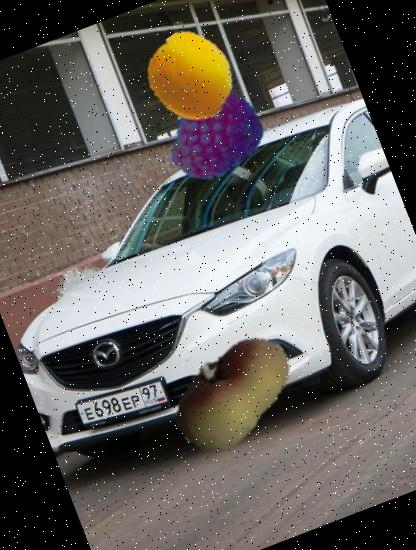Peach: (146, 306, 319, 479), (133, 19, 249, 135)
Raspberry: (149, 70, 273, 194)
